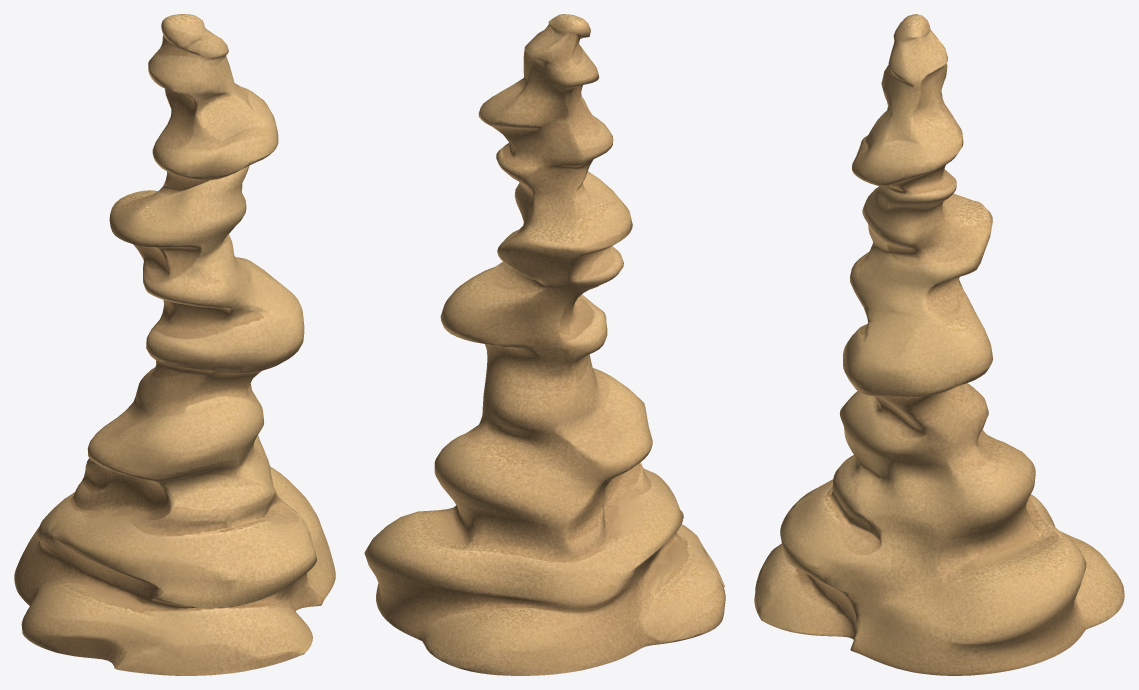
The model's file is tripo_convert_923dca6f-0d78-475d-ada7-9a95e9a25257.fbx.
3 renders of one model, left to right at view 1: azimuth 30°, elevation 25°; view 2: azimuth 150°, elevation 25°; view 3: azimuth 270°, elevation 25°, orthographic. The views are drawn at different scales.
Parts seen in each view (by area): view 1: tripo_node_923dca6f; view 2: tripo_node_923dca6f; view 3: tripo_node_923dca6f.
Boxes of the visible parts, left/top/right/bottom form: tripo_node_923dca6f: left=14, top=14, right=335, bottom=675; tripo_node_923dca6f: left=364, top=14, right=725, bottom=675; tripo_node_923dca6f: left=754, top=14, right=1124, bottom=675.
Size of the model in its own units: 0.5562 by 0.9995 by 0.5776.
1 material, 1 textured.
